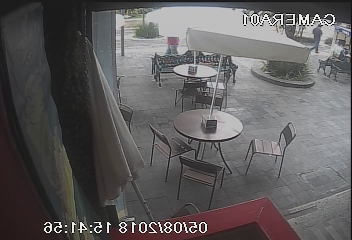libre: (146, 89, 293, 201), (167, 51, 236, 104)
